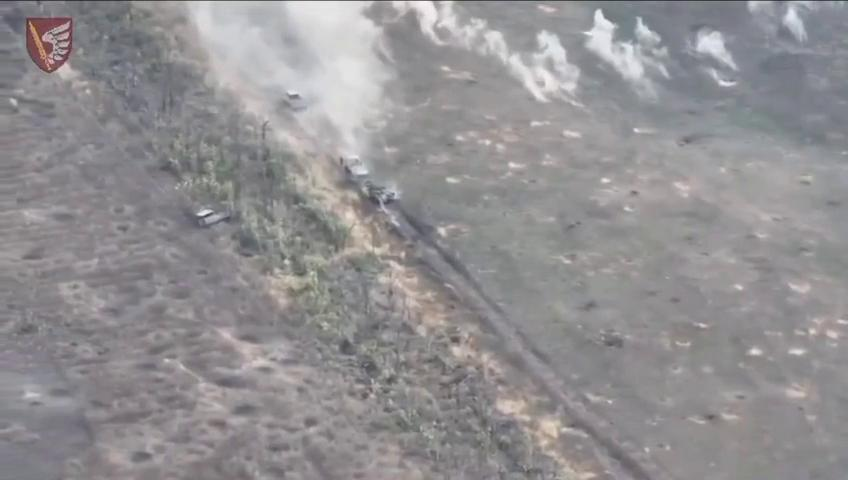tank: (338, 152, 369, 180), (366, 181, 398, 208), (281, 87, 309, 114)
